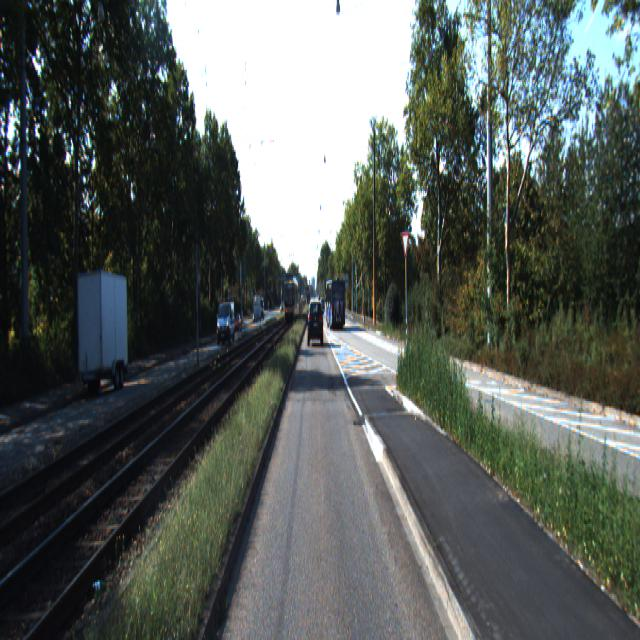Car: (76, 269, 130, 397), (324, 278, 346, 331), (216, 301, 236, 346), (308, 300, 323, 346)
